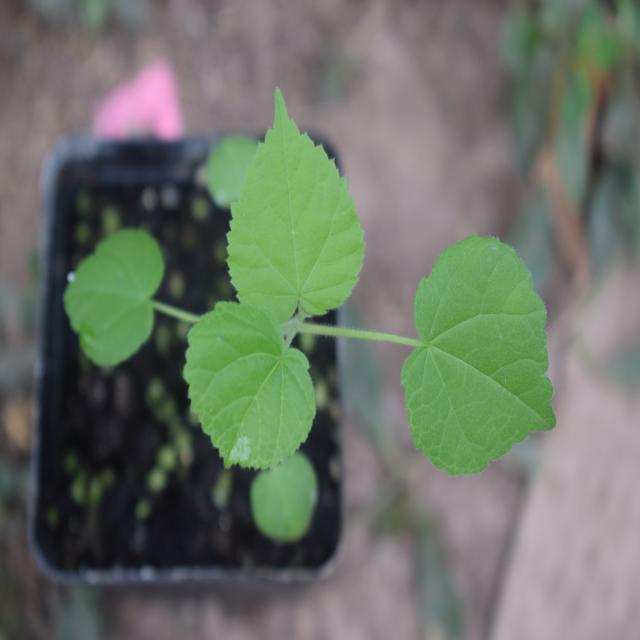abutilon theophrasti: (64, 86, 548, 502)
